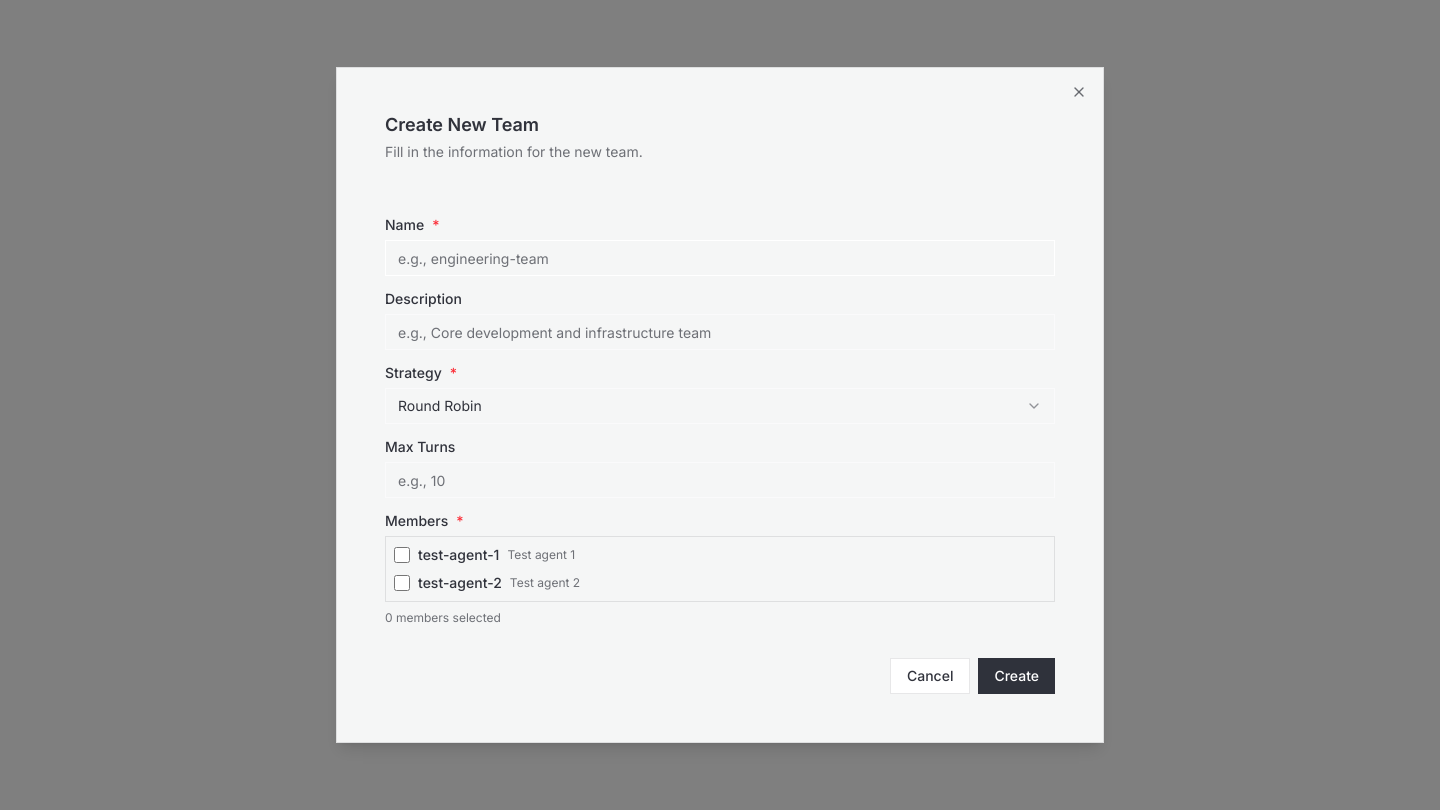
Test: TeamEditor › name validation › should show error for name starting with hyphen
Type "-invalid-team" into the field with placeholder "e.g., engineering-team" at (720, 258), box top-left (385, 240), bottom-right (1055, 276)
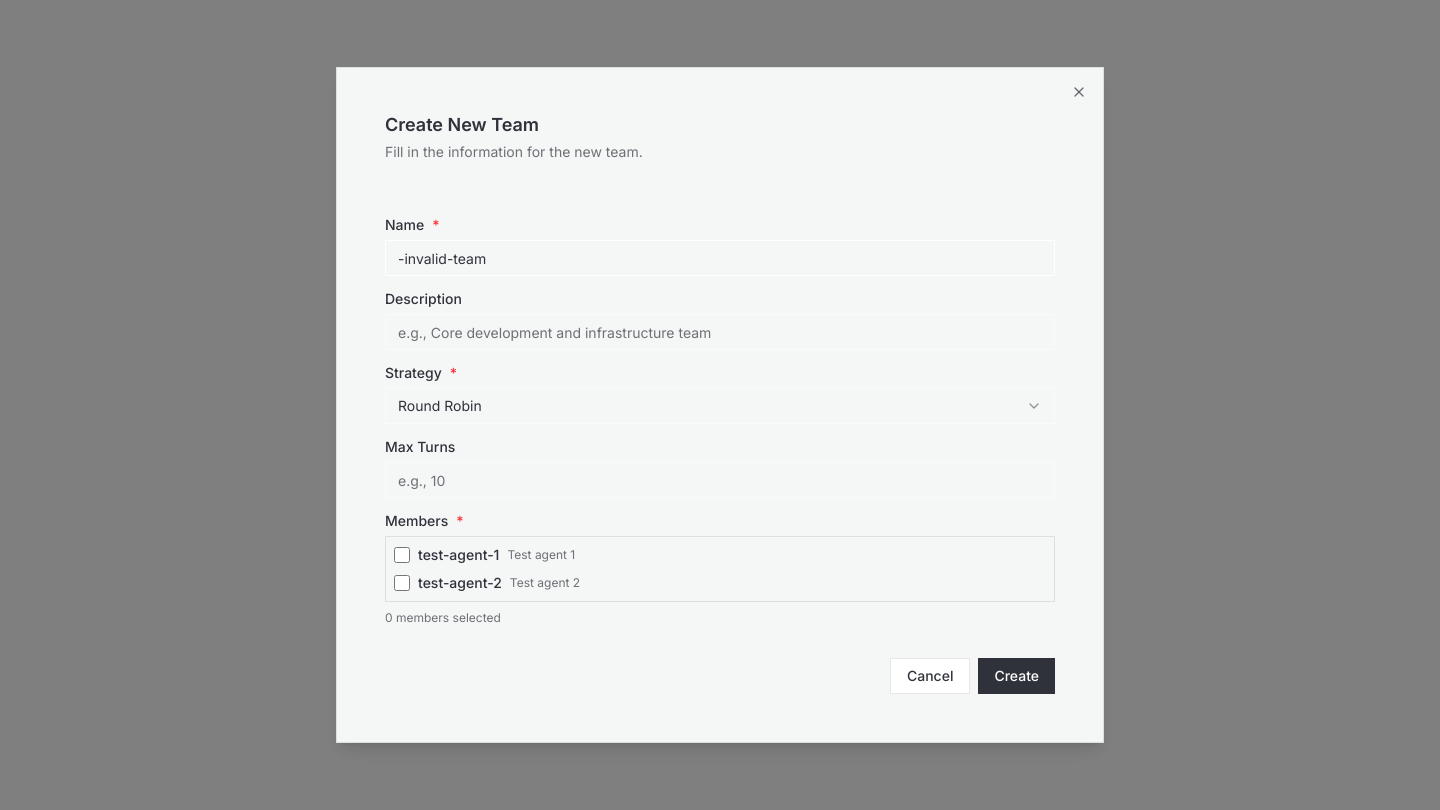
Click the button "Create" at (1017, 676), box top-left (978, 658), bottom-right (1055, 694)
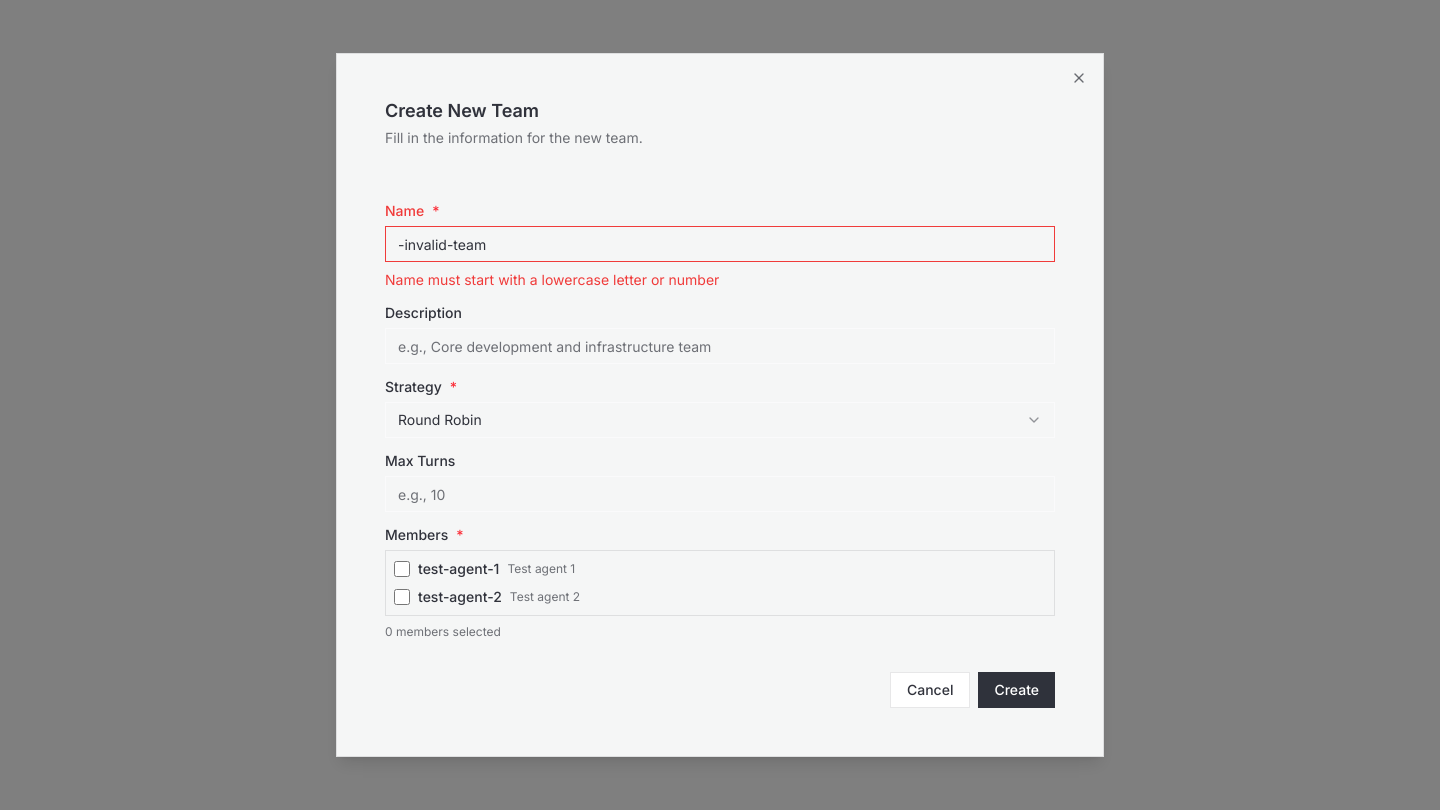
Check: the text "Name must start with a lowercase letter or number" is shown, box top-left (385, 271), bottom-right (719, 288)
